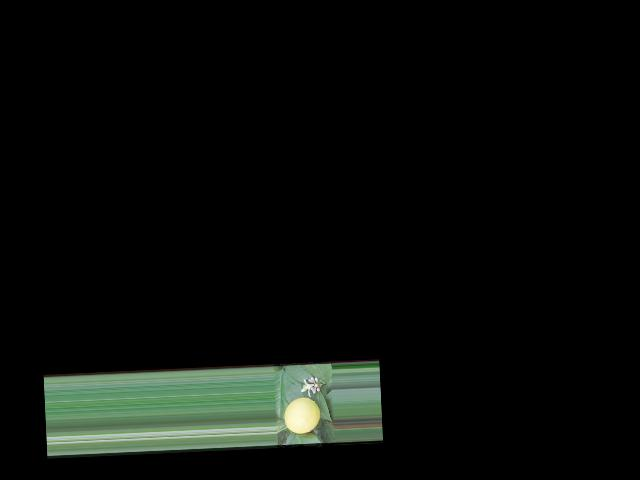lemon: (281, 396, 320, 437)
